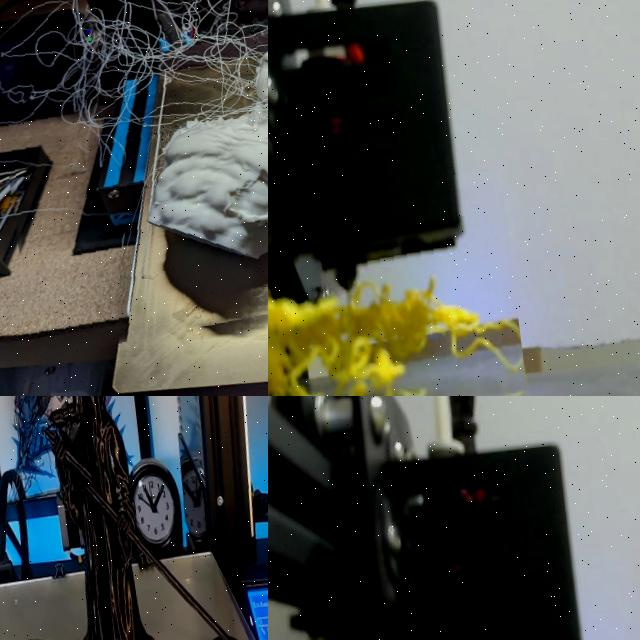spaghetti: (0, 0, 268, 360), (268, 286, 524, 396), (8, 396, 80, 500)
